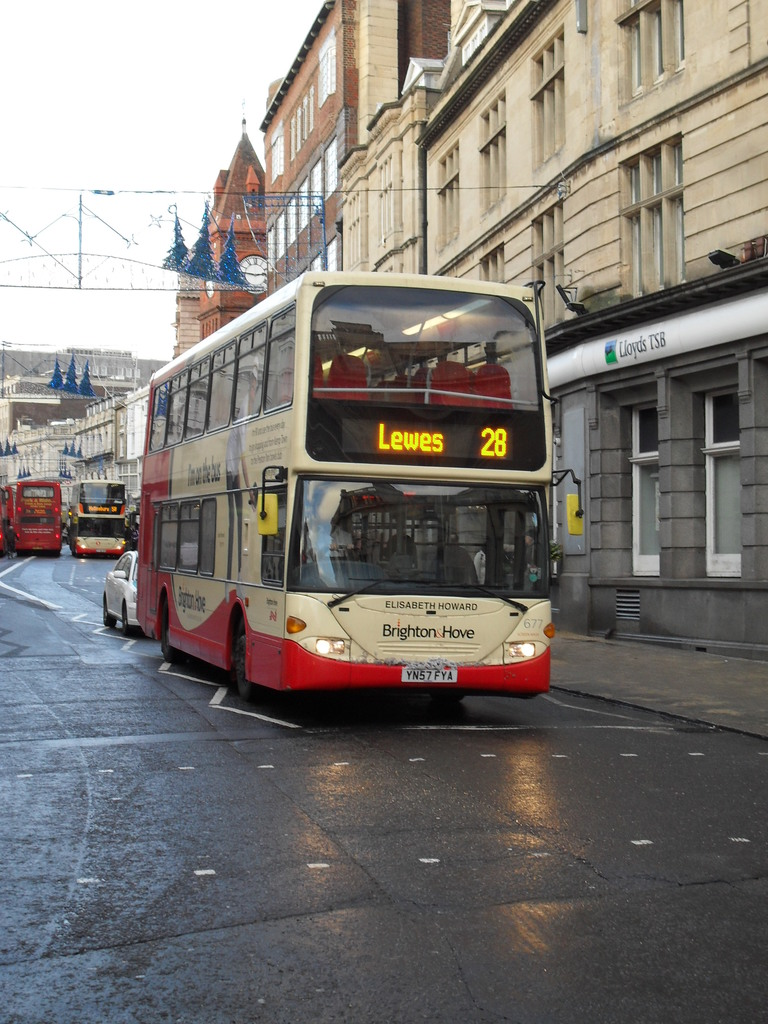Car: (104, 550, 141, 624)
